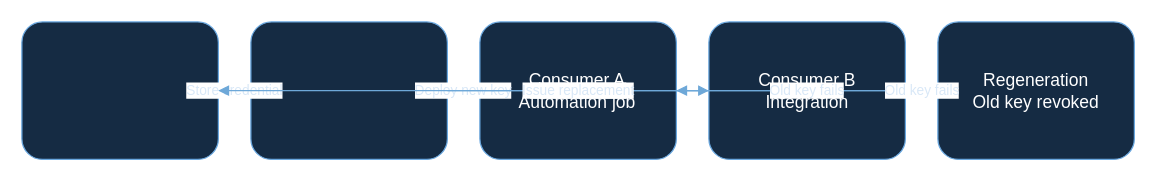
This 1156x181 diagram has some shape labels left out. Here are the shapes that lost their labels. From the top down, the centre of each, then its label:
At [119,90]: "FortiPAM API user Current key".
At [348,90]: "Secret manager Versioned secret".
